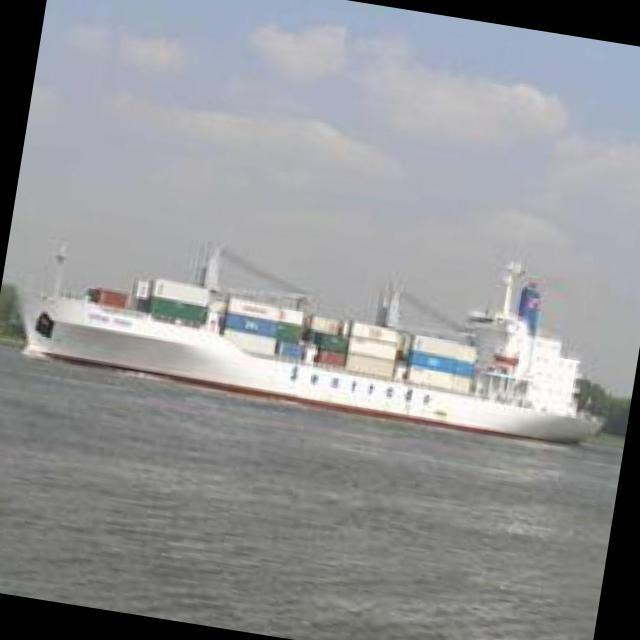boat: (0, 226, 633, 474)
